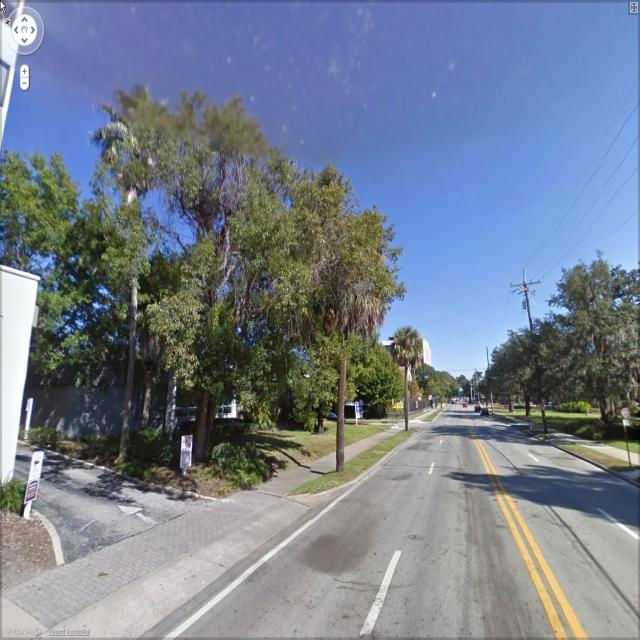b_2: (365, 324, 431, 395)
